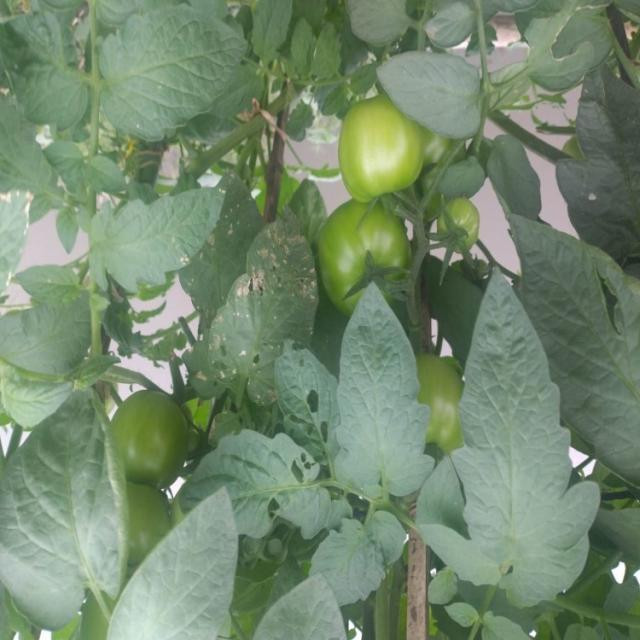tomato: (325, 104, 431, 219), (312, 190, 400, 307), (104, 382, 189, 480), (414, 347, 471, 464), (114, 471, 175, 554), (433, 200, 500, 266)
